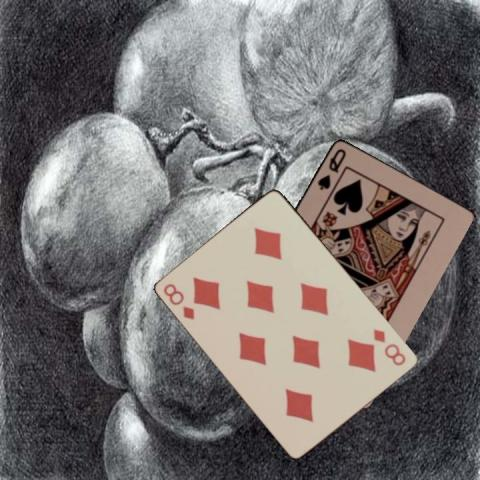8d: (371, 326, 407, 368), (161, 281, 196, 321)
Qs: (314, 145, 347, 191)
